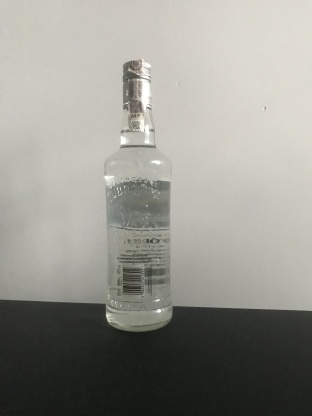nakretka: (120, 56, 153, 111)
